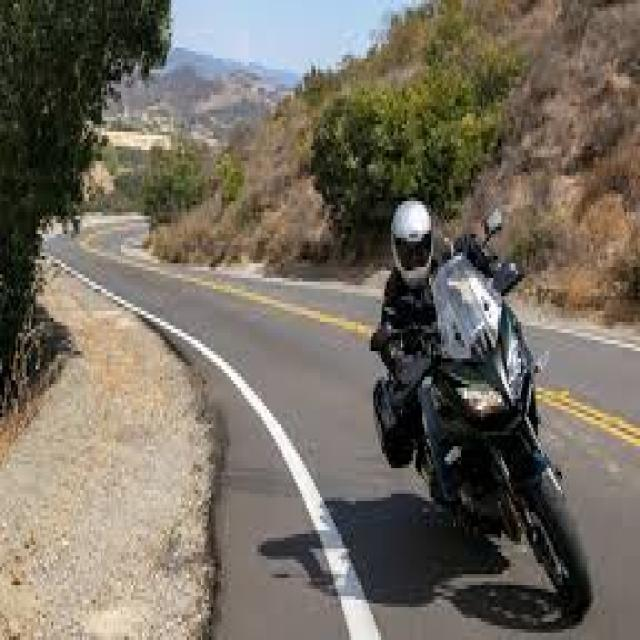MOTORCYCLE: (428, 270, 586, 606)
